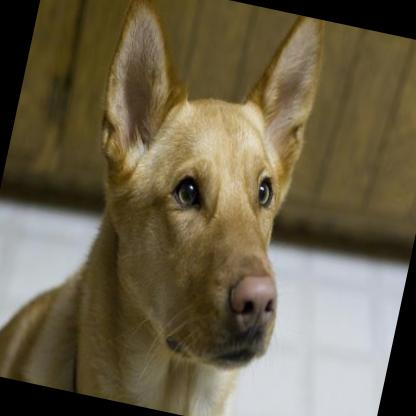dingo: (0, 0, 339, 416)
